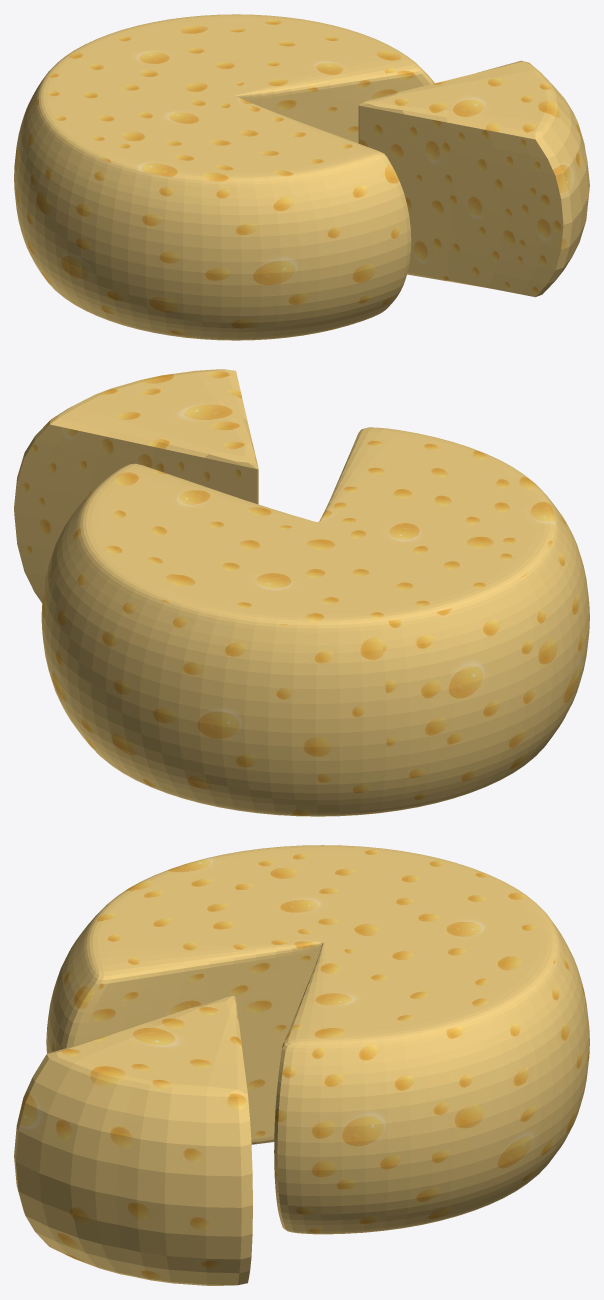
Rendered from cheese.fbx.
The picture shows the model from 3 angles, top to bottom: view 1: azimuth 30°, elevation 25°; view 2: azimuth 150°, elevation 25°; view 3: azimuth 270°, elevation 25°; orthographic projection. The views are drawn at different scales.
Visible parts, largest first — view 1: cheese knif; view 2: cheese knif; view 3: cheese knif.
Boxes of the visible parts, left/top/right/bottom form: cheese knif: left=14, top=14, right=589, bottom=340; cheese knif: left=14, top=369, right=589, bottom=816; cheese knif: left=14, top=845, right=589, bottom=1285.
Bounding box in the file's own units: 25105 × 8277 × 21863.
